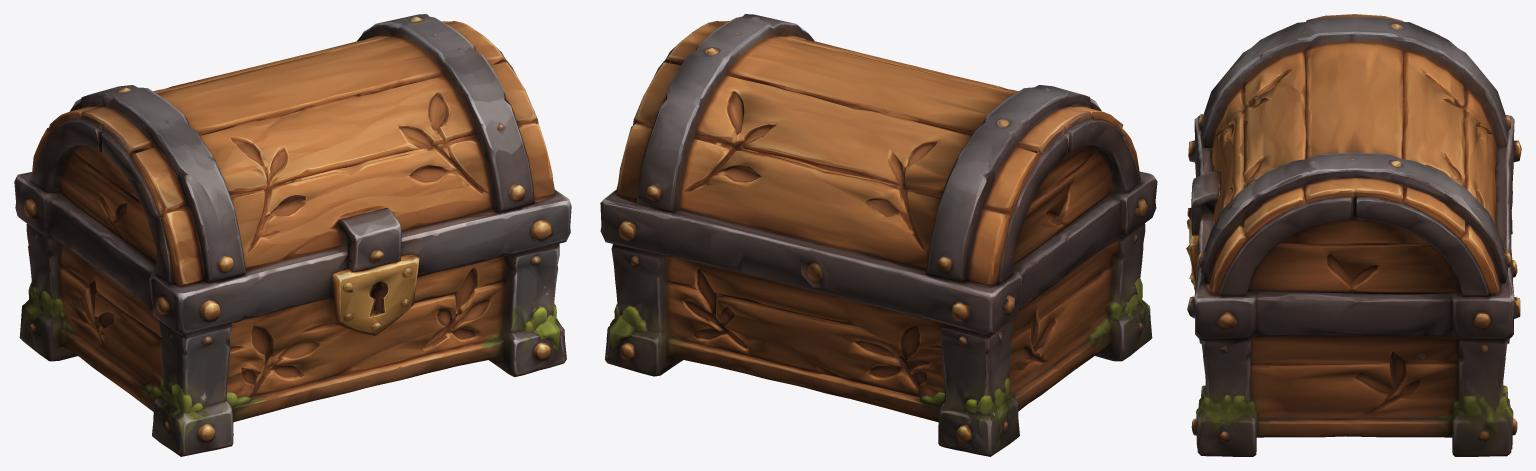
File: treasure_chest_3d_model.glb
3 renders of one model, left to right at view 1: azimuth 30°, elevation 25°; view 2: azimuth 150°, elevation 25°; view 3: azimuth 270°, elevation 25°, orthographic. The views are drawn at different scales.
Visible parts, largest first — view 1: tripo_part_1, tripo_part_0, tripo_part_2; view 2: tripo_part_1, tripo_part_0; view 3: tripo_part_1, tripo_part_0, tripo_part_2.
Part boxes in pixels (bbox=[...]): tripo_part_1: bbox=[31, 14, 563, 287]; tripo_part_0: bbox=[14, 172, 571, 456]; tripo_part_2: bbox=[329, 207, 433, 335]; tripo_part_1: bbox=[616, 14, 1140, 286]; tripo_part_0: bbox=[600, 171, 1157, 456]; tripo_part_1: bbox=[1196, 14, 1511, 297]; tripo_part_0: bbox=[1187, 115, 1521, 456]; tripo_part_2: bbox=[1186, 171, 1219, 290].
Bounding box in the file's own units: 0.9989 × 0.6801 × 0.7524.
3 materials, 3 textured.
